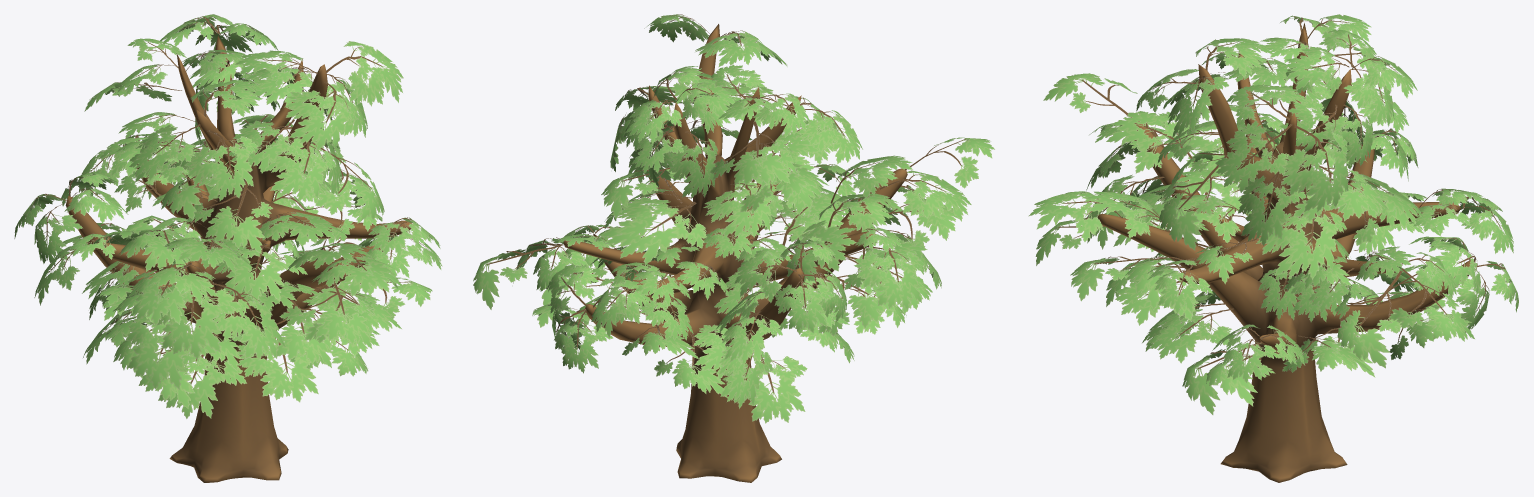
Rendered from Boom.fbx.
3 renders of one model, left to right at view 1: azimuth 30°, elevation 25°; view 2: azimuth 150°, elevation 25°; view 3: azimuth 270°, elevation 25°, orthographic. The views are drawn at different scales.
Visible parts, largest first — view 1: branch2_lp31; view 2: branch2_lp31; view 3: branch2_lp31.
Part boxes in pixels (x1=…): branch2_lp31: x1=14, y1=14, x2=442, y2=482; branch2_lp31: x1=473, y1=14, x2=994, y2=482; branch2_lp31: x1=1028, y1=14, x2=1518, y2=482.
Size of the model in its own units: 19.77 by 20.33 by 21.48.
